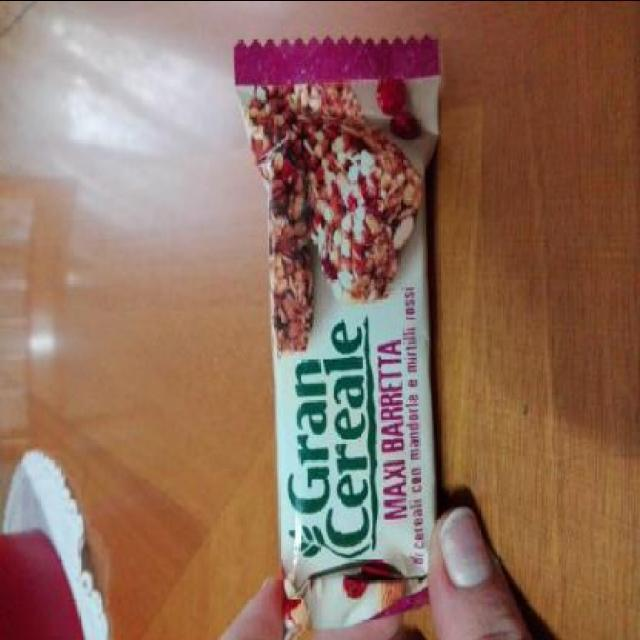Cereal bar: (236, 24, 442, 628)
